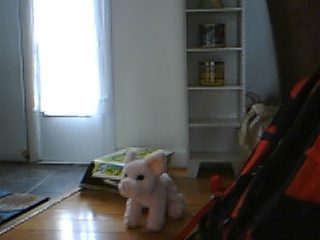piggy: (116, 147, 186, 232)
